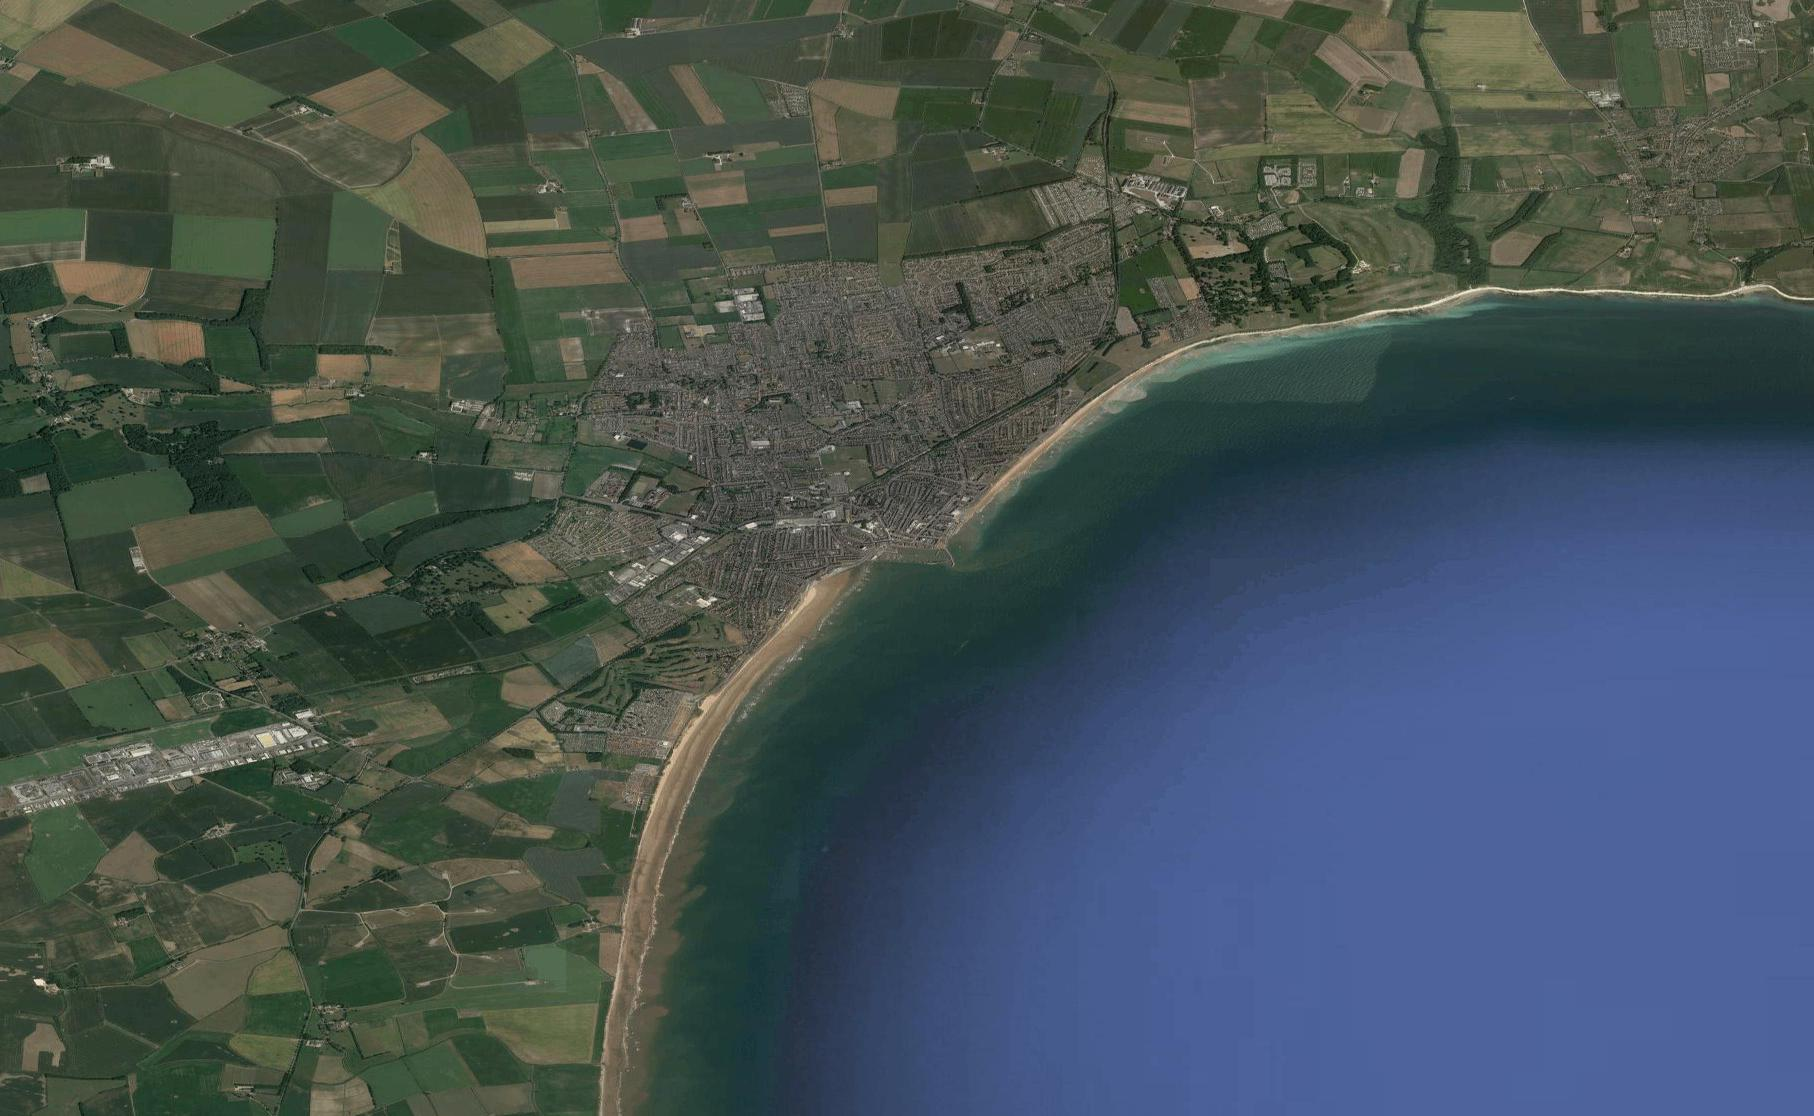harbor: (889, 537, 959, 577)
industrial: (175, 717, 311, 782)
